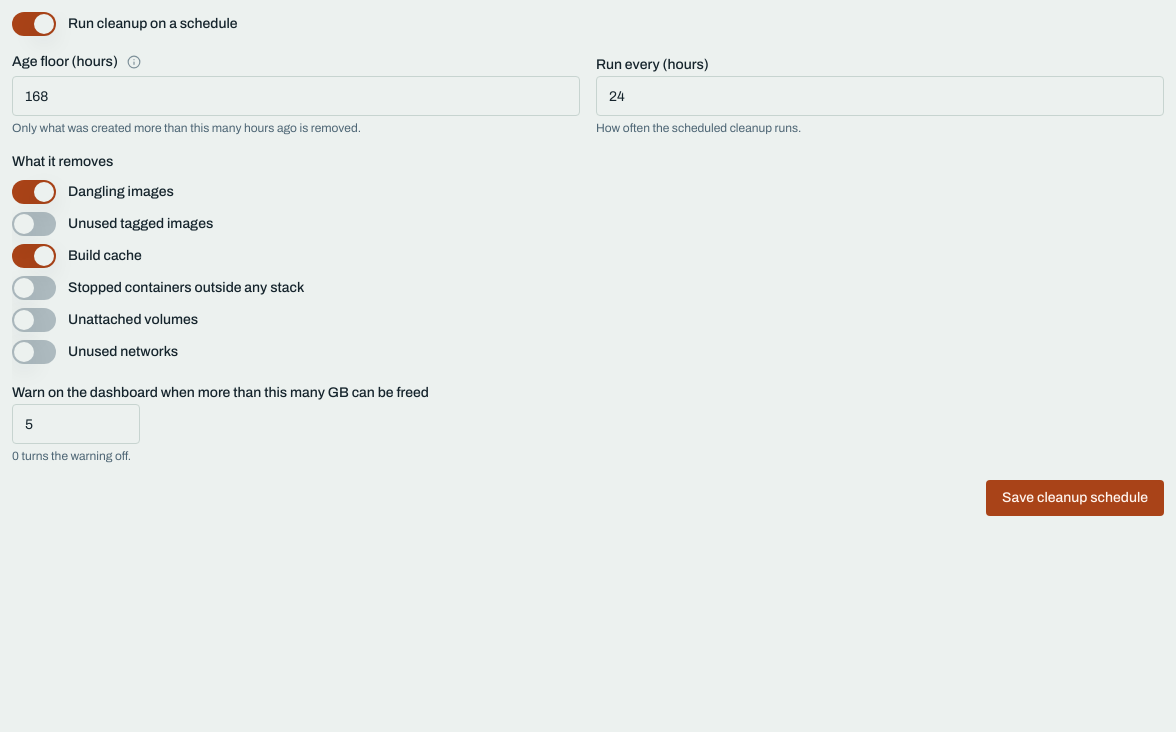
CleanupPolicyForm: categories (D98-A) › refuses an enabled schedule with every category off
Expected: the number field labelled "Age floor (hours)" is shown, [12,76,580,116]
Click the switch named "Dangling images" next to "Dangling images".
click(34, 192)  # box [12,180,56,204]
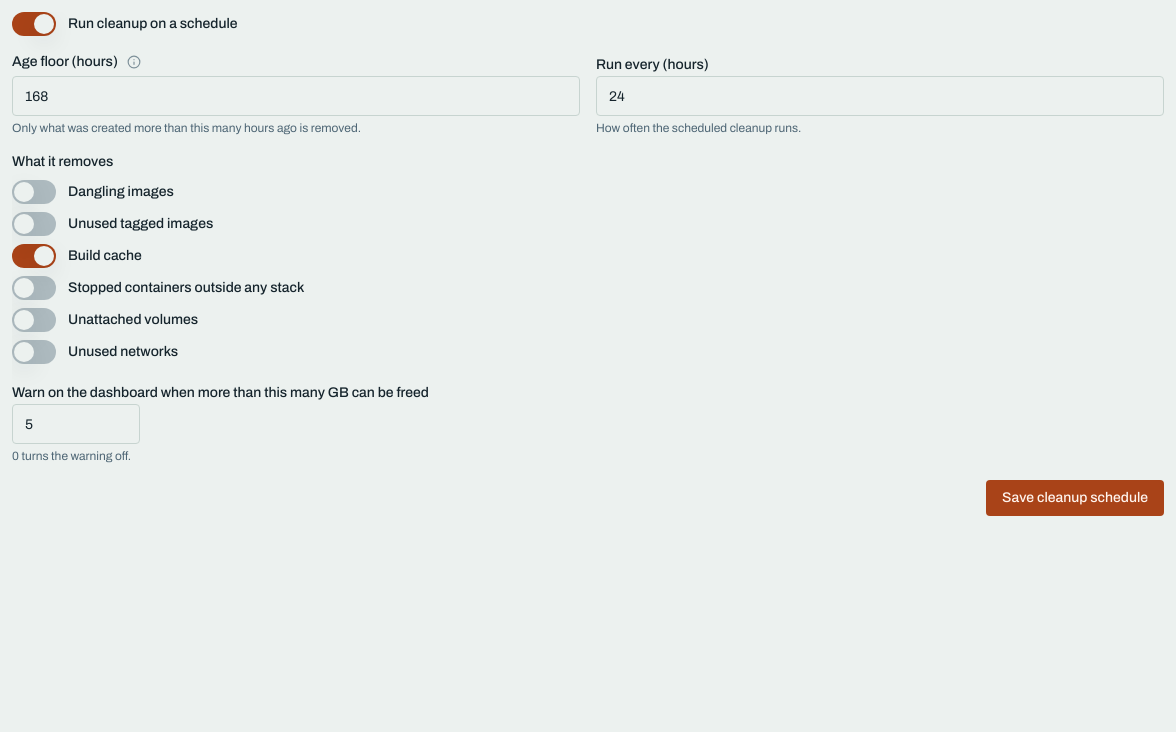
Click the switch named "Build cache" next to "Build cache".
click(34, 256)  # box [12,244,56,268]
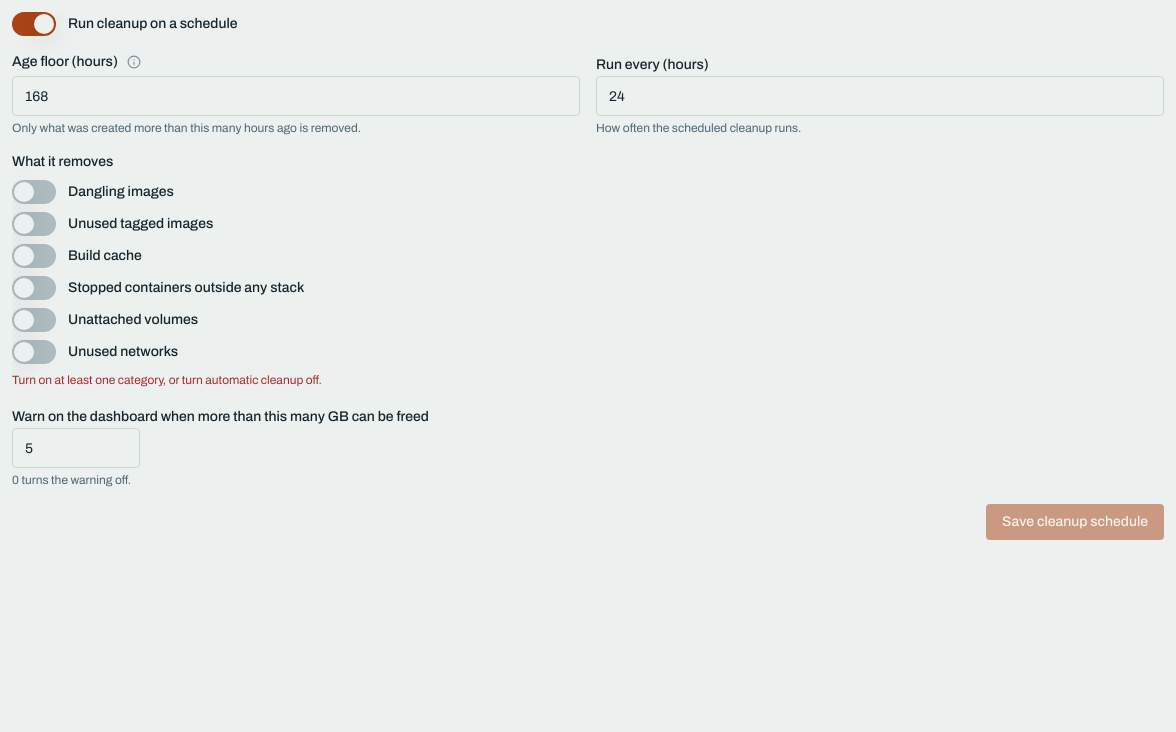
Result: the text "Turn on at least one category, or turn automatic cleanup off." is shown at [12,373,322,387]
Result: the button "Save cleanup schedule" is disabled at [986,504,1164,540]
// Other side: one category back on is a legal save.
Click the switch named "Build cache" next to "Build cache".
click(34, 256)  # box [12,244,56,268]
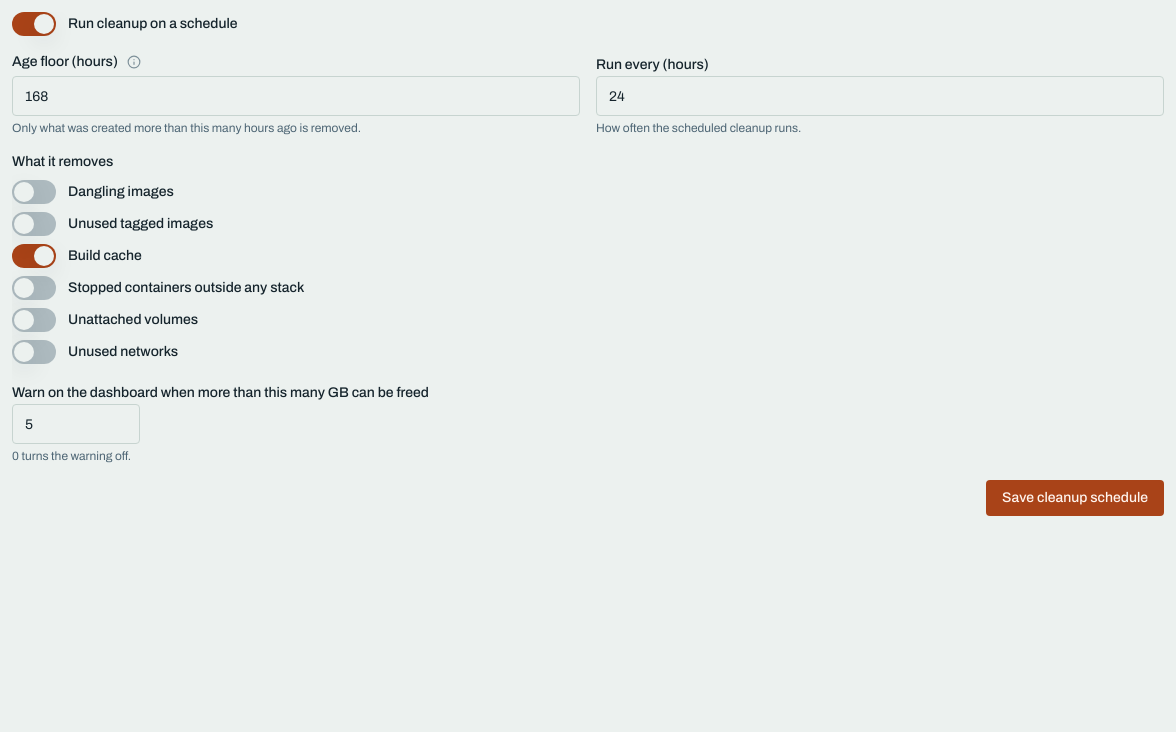
Result: the button "Save cleanup schedule" is enabled at [986,480,1164,516]
